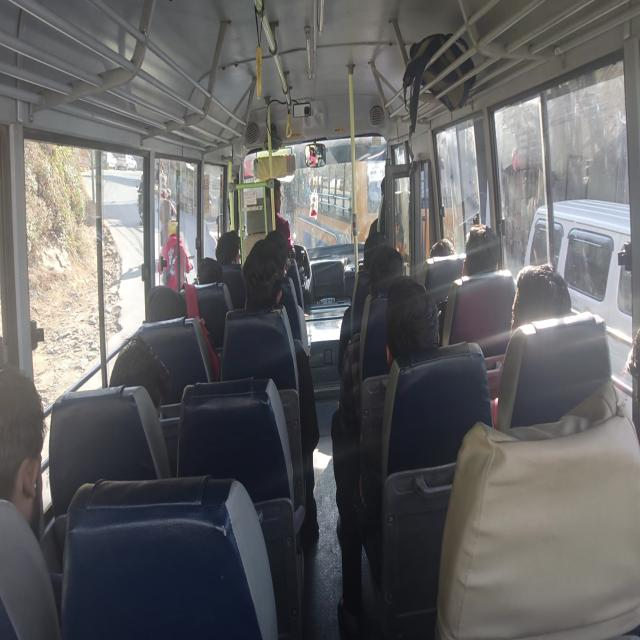person: (109, 338, 187, 491), (0, 356, 51, 531), (515, 265, 581, 357), (391, 282, 445, 357), (246, 245, 286, 310), (146, 279, 194, 332), (466, 224, 508, 282), (380, 245, 408, 300), (260, 228, 290, 270), (362, 230, 392, 266), (216, 230, 242, 269), (199, 250, 224, 289), (431, 235, 458, 268)
